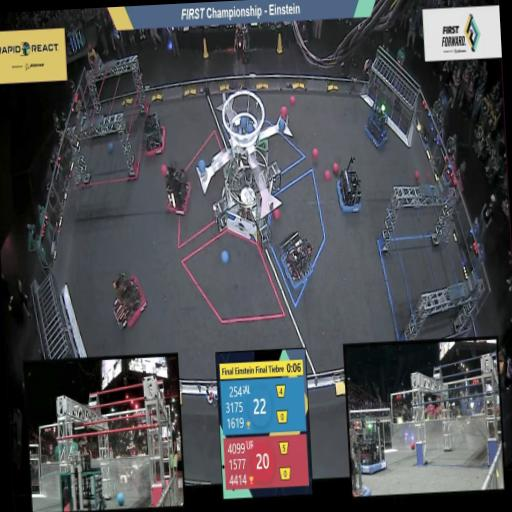robot: (59, 448, 107, 512), (108, 272, 152, 330), (275, 228, 315, 290), (354, 418, 388, 476), (162, 162, 194, 218), (336, 158, 365, 219), (140, 114, 170, 160), (365, 102, 391, 150)
